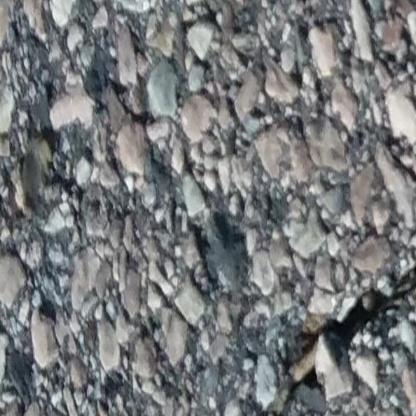Cracks: (258, 256, 416, 416)
